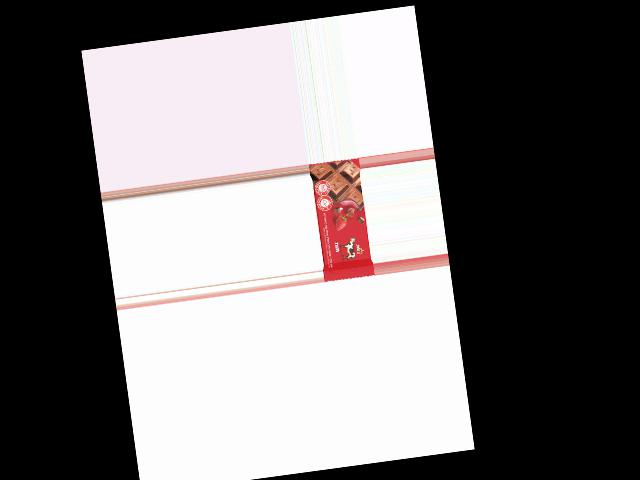chocolate: (308, 159, 374, 282)
